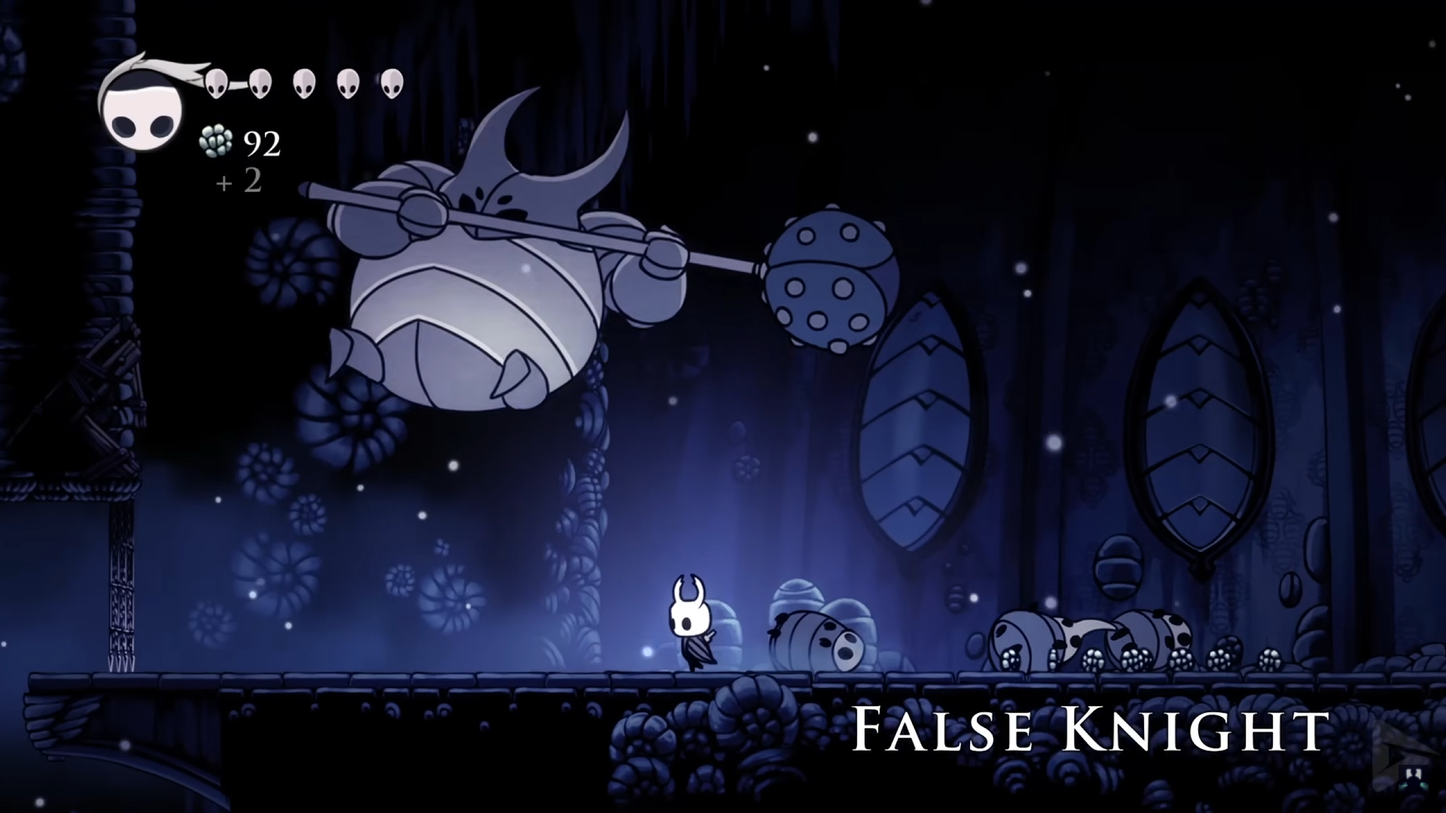HK: (661, 573, 722, 674)
